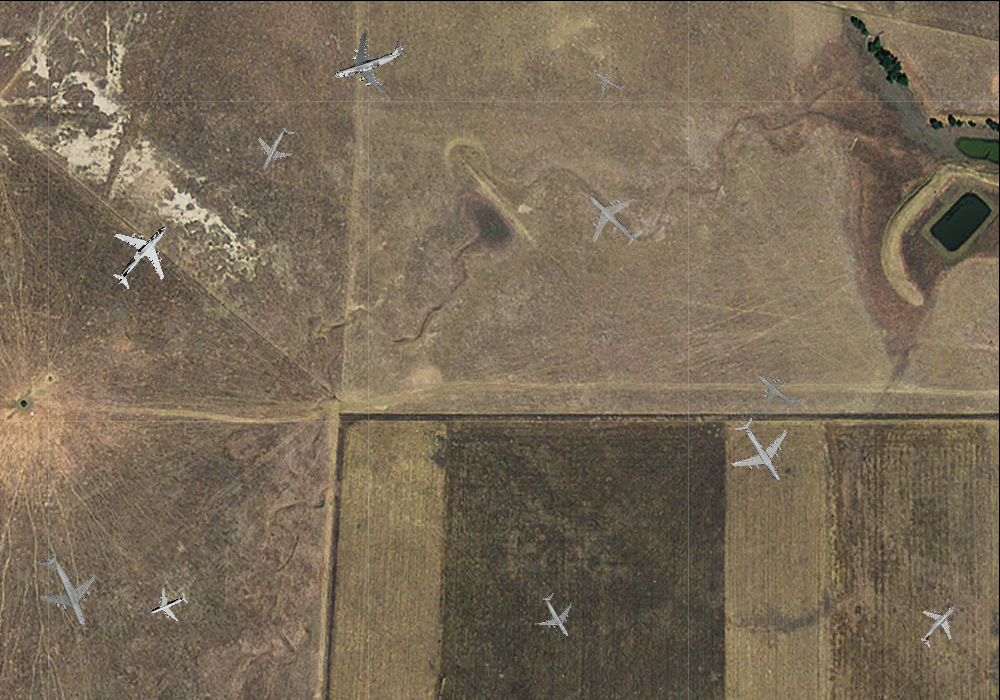plane: (91, 204, 193, 305), (17, 541, 113, 642), (321, 14, 417, 107), (715, 404, 806, 497), (567, 172, 658, 263), (745, 356, 812, 423), (906, 591, 973, 658), (245, 117, 306, 180), (526, 585, 587, 647), (143, 580, 193, 630), (586, 57, 632, 103)
